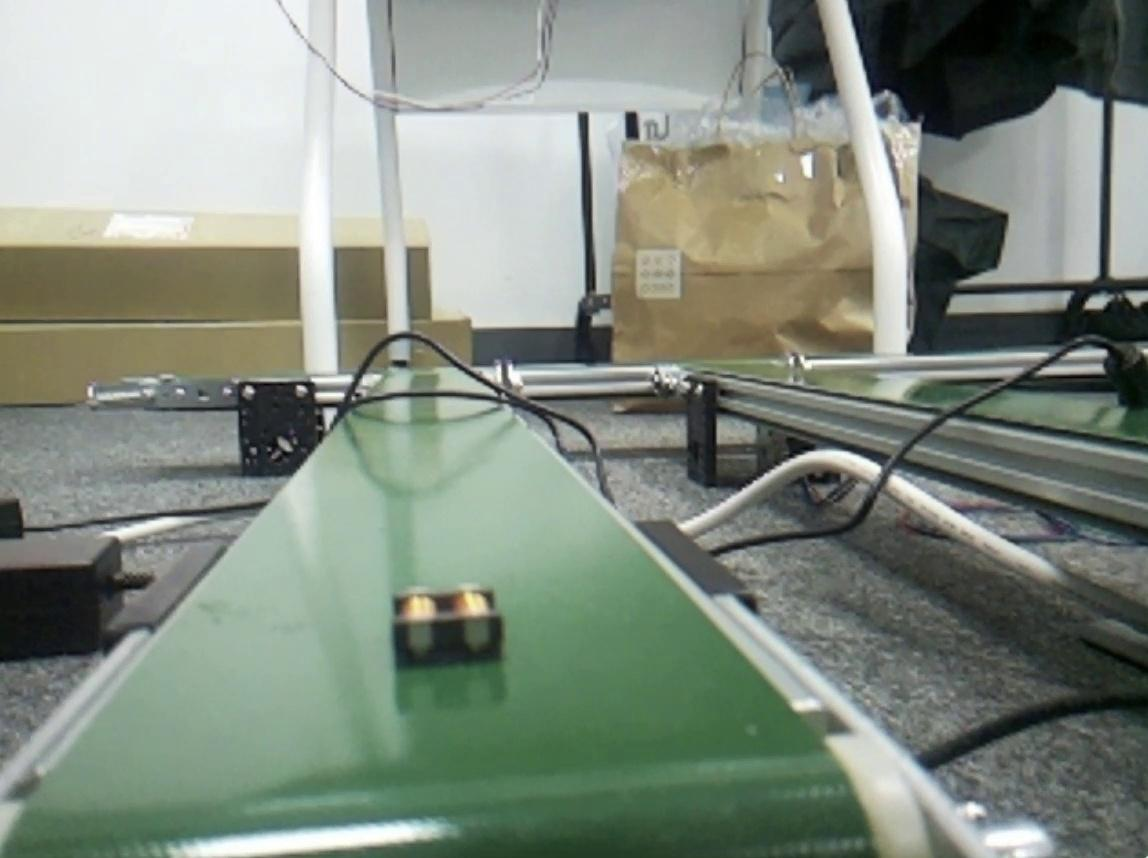inductor: (395, 592, 505, 667)
